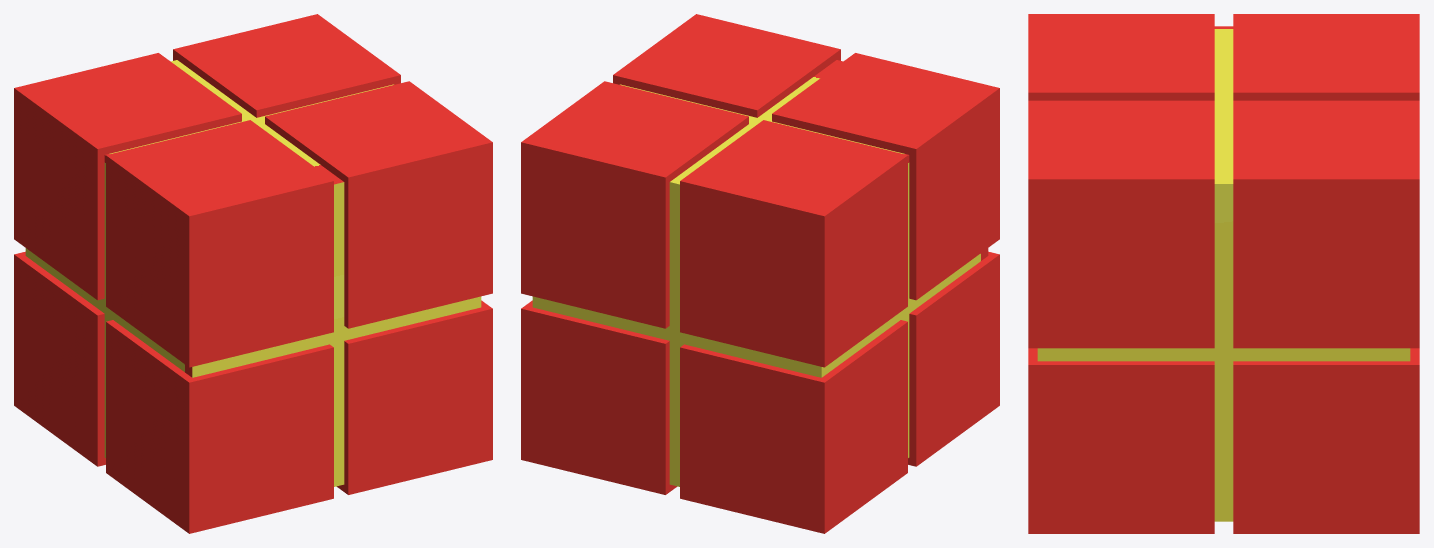
File: bullet.gltf
3 views of the same model, side by side, from view 1: azimuth 30°, elevation 25°; view 2: azimuth 150°, elevation 25°; view 3: azimuth 270°, elevation 25° (orthographic). The views are drawn at different scales.
Visible parts, largest first — view 1: center; view 2: center; view 3: center.
Part boxes in pixels (x1=…): center: x1=14, y1=14, x2=492, y2=533; center: x1=521, y1=14, x2=999, y2=533; center: x1=1028, y1=14, x2=1419, y2=533.
Bounding box in the file's own units: 2.1 × 2.1 × 2.1.
